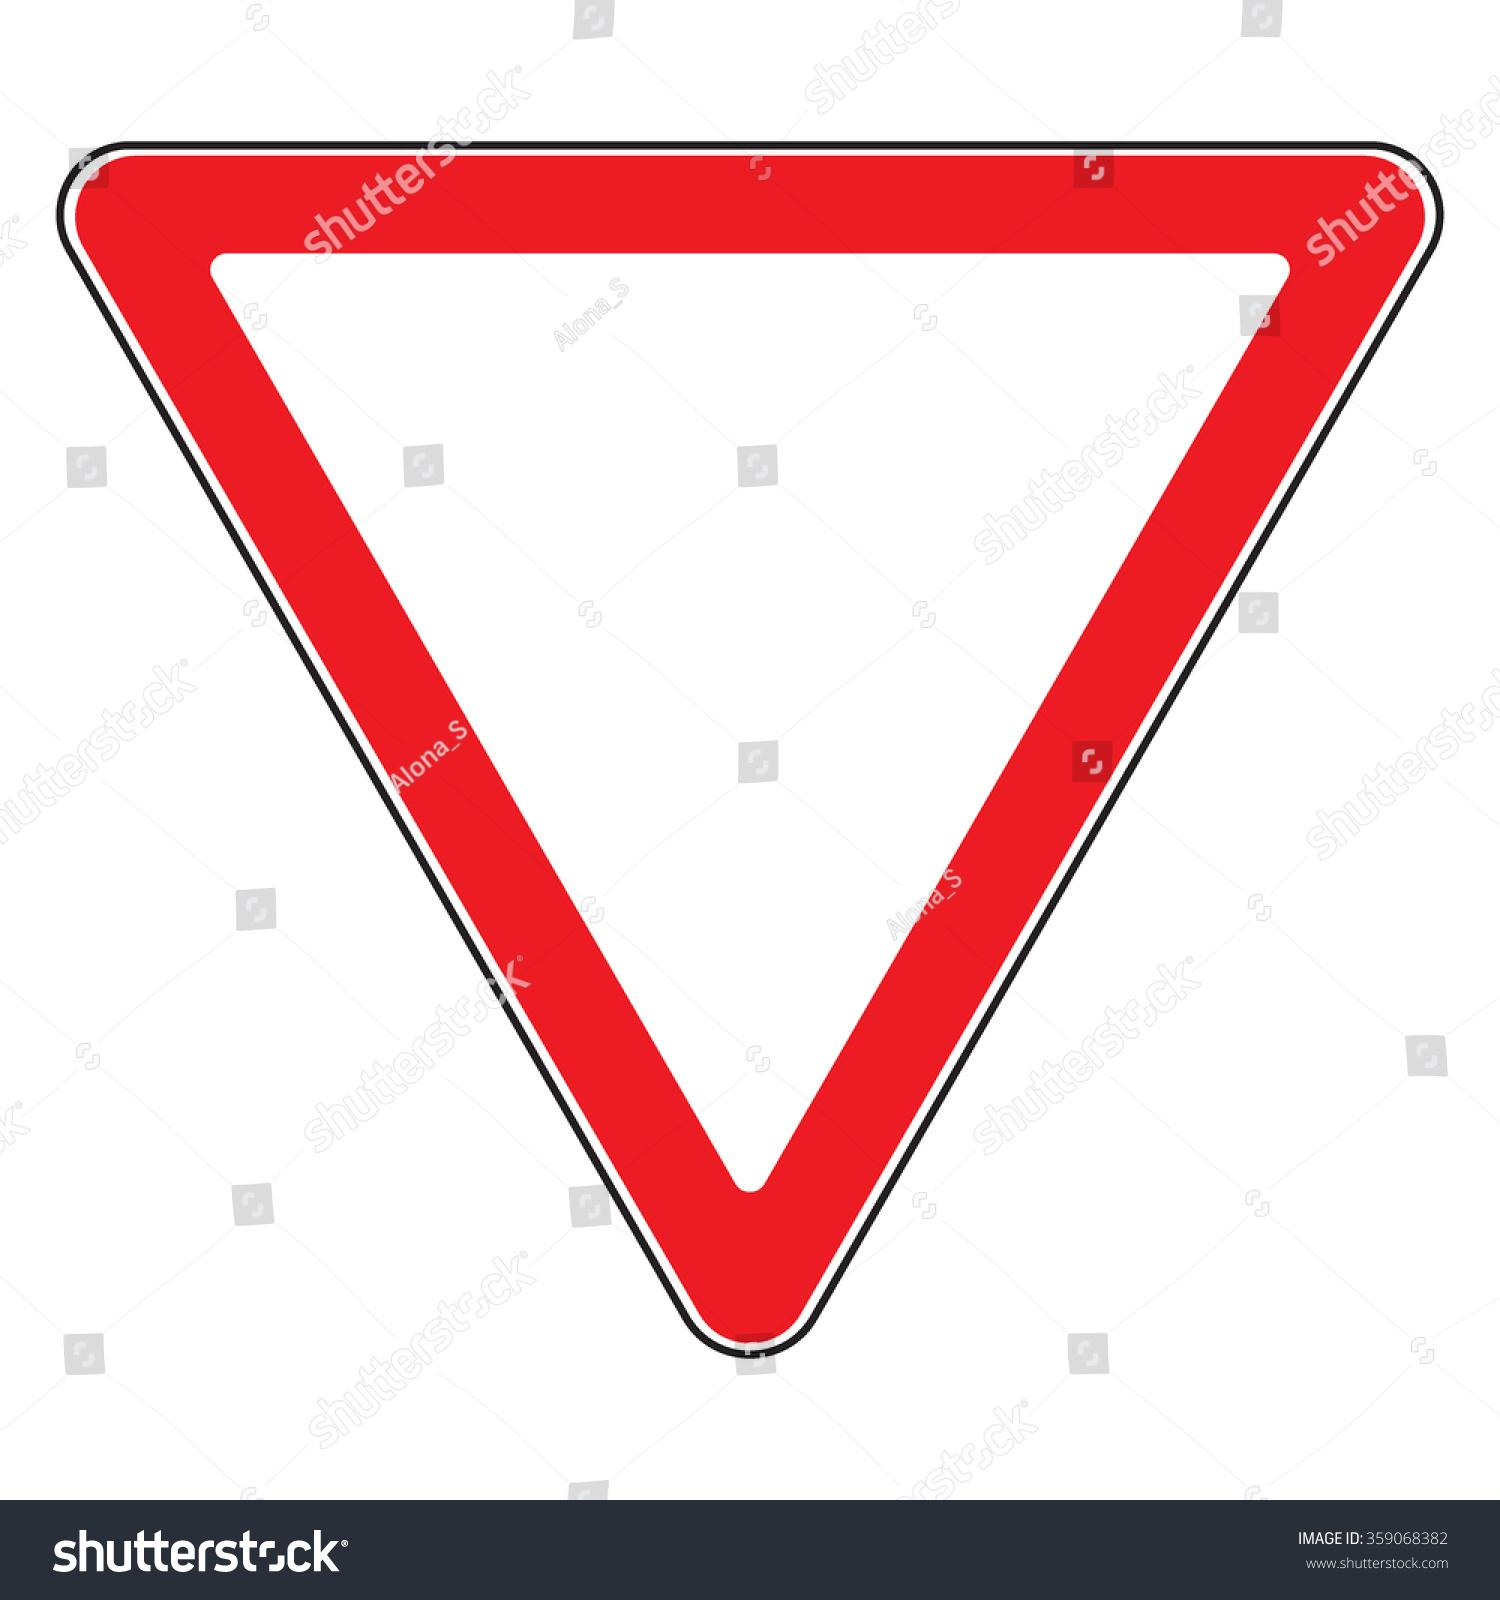Give Way: (17, 54, 1500, 1296)
